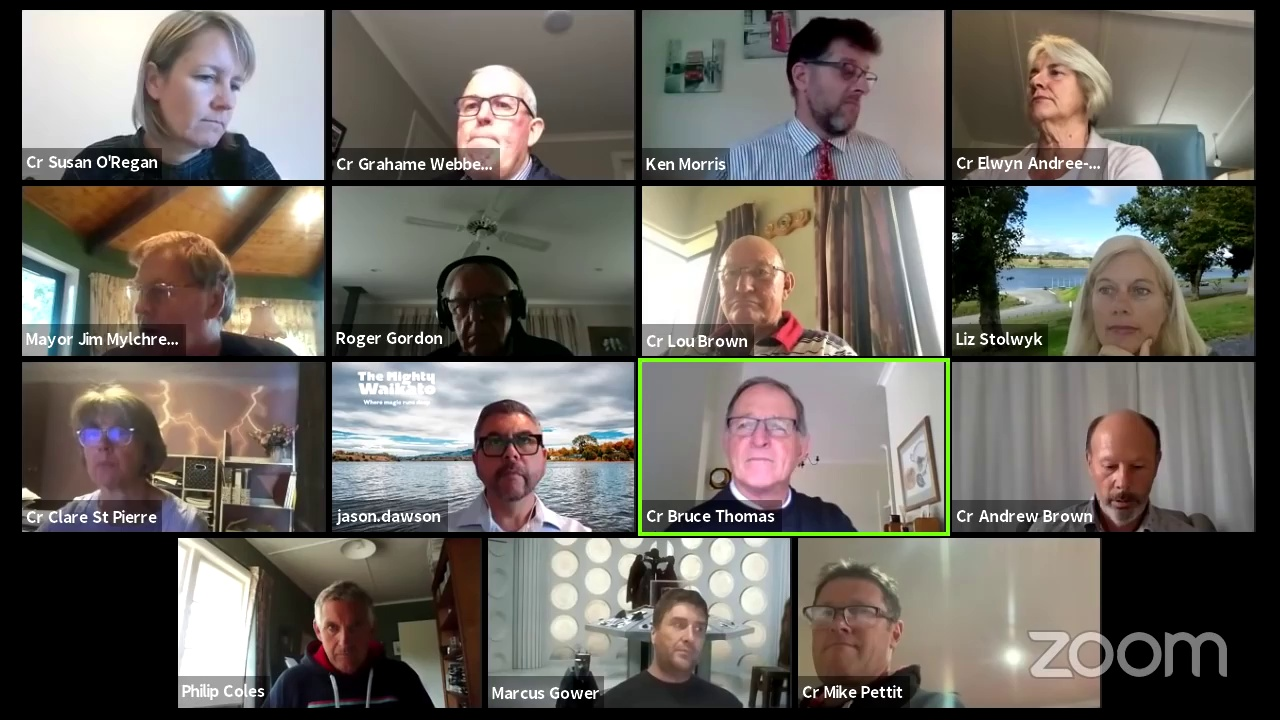Distracted: (135, 26, 254, 142), (117, 234, 244, 341), (1072, 405, 1171, 528), (779, 29, 889, 137), (1021, 34, 1124, 135), (647, 596, 716, 675)
Not Distracted: (801, 557, 912, 688), (720, 380, 812, 489), (443, 65, 548, 160), (63, 391, 169, 484), (463, 401, 553, 503), (430, 260, 527, 352), (1088, 251, 1170, 350), (308, 583, 386, 673), (712, 233, 789, 321)
